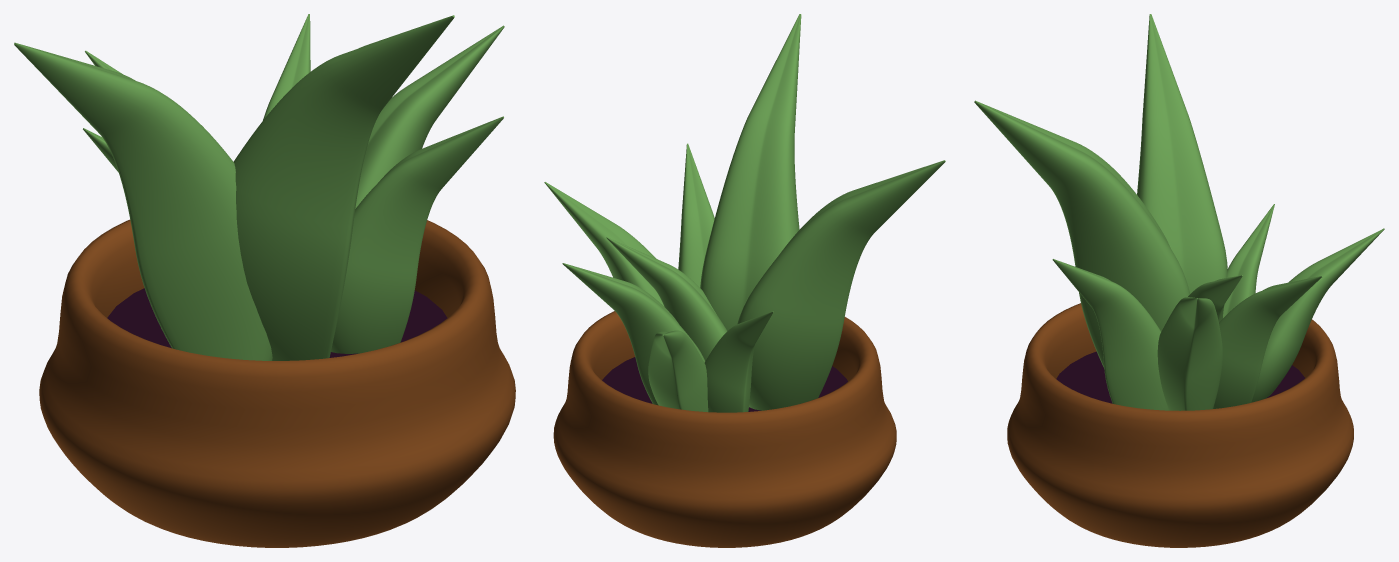
File: plant_modelling.glb
The picture shows the model from 3 angles, left to right: view 1: azimuth 30°, elevation 25°; view 2: azimuth 150°, elevation 25°; view 3: azimuth 270°, elevation 25°; orthographic projection. The views are drawn at different scales.
Parts seen in each view (by area): view 1: Vert, NurbsPath.002, NurbsPath, NurbsPath.005, NurbsPath.001, Circle, NurbsPath.004; view 2: Vert, NurbsPath, NurbsPath.002, NurbsPath.004, NurbsPath.007, NurbsPath.003, NurbsPath.006, NurbsPath.001, NurbsPath.005, Circle; view 3: Vert, NurbsPath.002, NurbsPath, NurbsPath.005, NurbsPath.001, NurbsPath.004, NurbsPath.003, Circle, NurbsPath.006, NurbsPath.007.
Boxes of the visible parts, x1,y1,x2,y2 form: Vert: (39, 219, 515, 547); NurbsPath.002: (233, 15, 454, 360); NurbsPath: (14, 42, 272, 360); NurbsPath.005: (331, 116, 503, 353); NurbsPath.001: (355, 25, 504, 208); Circle: (107, 288, 447, 357); NurbsPath.004: (263, 14, 310, 120); Vert: (553, 311, 896, 547); NurbsPath: (737, 160, 945, 410); NurbsPath.002: (700, 14, 801, 330); NurbsPath.004: (562, 263, 705, 405); NurbsPath.007: (606, 237, 727, 360); NurbsPath.003: (648, 330, 708, 411); NurbsPath.006: (704, 311, 773, 412); NurbsPath.001: (544, 182, 663, 305); NurbsPath.005: (678, 143, 714, 287); Circle: (602, 357, 847, 411); Vert: (1007, 303, 1353, 547); NurbsPath.002: (974, 100, 1190, 368); NurbsPath: (1137, 14, 1227, 293); NurbsPath.005: (1052, 259, 1168, 410); NurbsPath.001: (1157, 297, 1222, 410); NurbsPath.004: (1213, 276, 1322, 408); NurbsPath.003: (1251, 228, 1384, 402); Circle: (1056, 351, 1304, 403); NurbsPath.006: (1223, 204, 1274, 317); NurbsPath.007: (1188, 275, 1242, 322).
Size of the model in its own units: 9.32 by 9.67 by 8.64.
